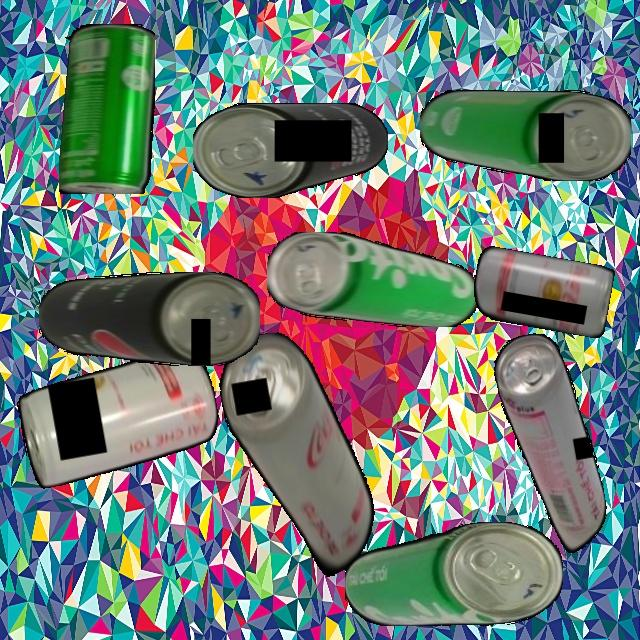debris: (212, 321, 386, 600), (13, 344, 225, 490), (489, 327, 613, 560), (344, 522, 563, 626), (38, 272, 260, 366), (267, 231, 478, 327), (419, 90, 631, 181), (193, 102, 388, 198), (58, 24, 155, 194), (469, 245, 615, 339)
